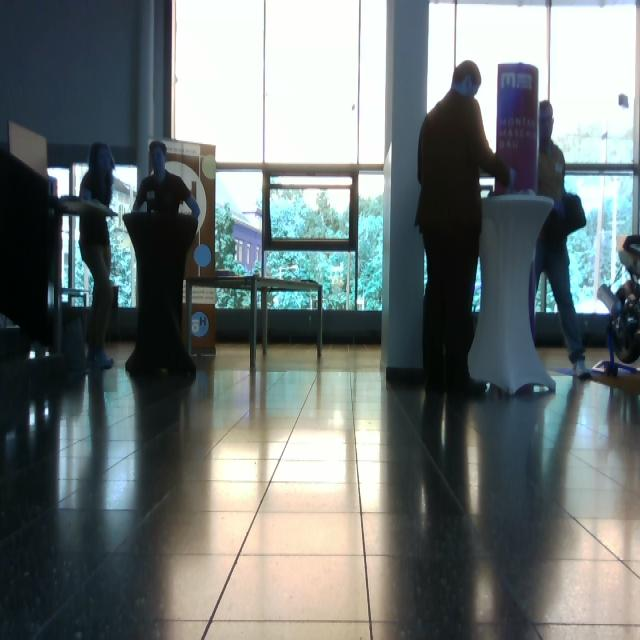light bulb: (597, 284, 622, 318), (194, 244, 212, 268), (619, 93, 629, 109)
person: (414, 60, 513, 397), (125, 140, 201, 378), (530, 100, 593, 380), (78, 143, 118, 371)
pillar: (382, 1, 430, 378)
table: (466, 192, 560, 401)
tiled floor: (2, 339, 639, 639)
window: (425, 1, 640, 322), (170, 1, 390, 314)
